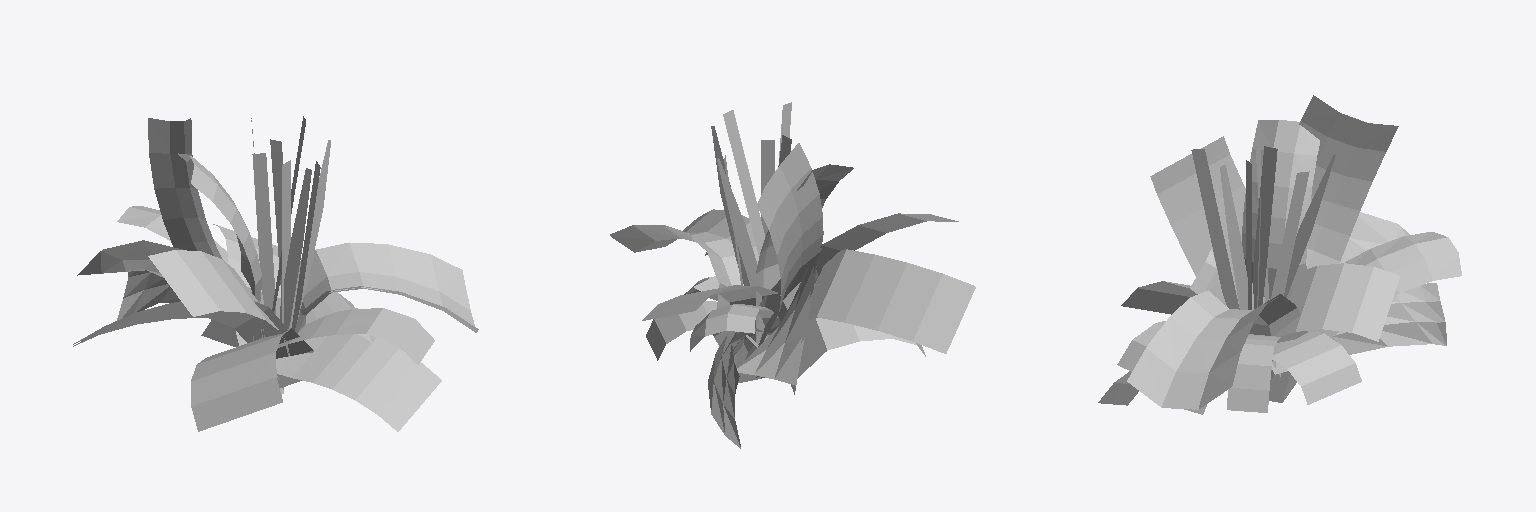
The model's file is bushes04_01.obj.
The picture shows the model from 3 angles: view 1: azimuth 30°, elevation 25°; view 2: azimuth 150°, elevation 25°; view 3: azimuth 270°, elevation 25°; orthographic projection.
Visible parts, largest first — view 1: bushes04_01; view 2: bushes04_01; view 3: bushes04_01.
Boxes of the visible parts, x1=… form: bushes04_01: x1=73, y1=116, x2=478, y2=431; bushes04_01: x1=610, y1=102, x2=975, y2=448; bushes04_01: x1=1098, y1=95, x2=1461, y2=414.
Size of the model in its own units: 430 by 311 by 372.